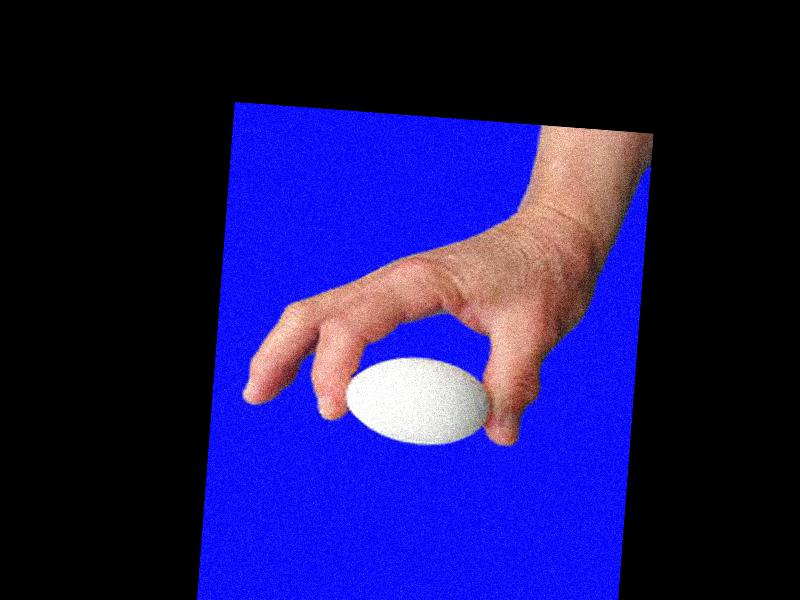Eggs: (340, 352, 493, 449)
